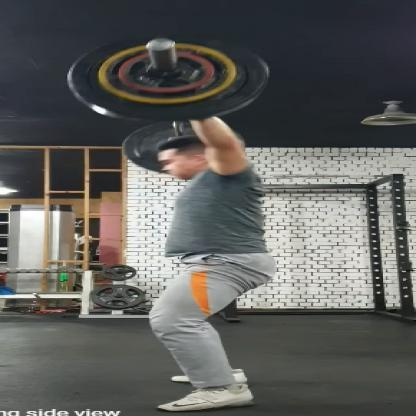Barbell: (143, 38, 180, 54)
